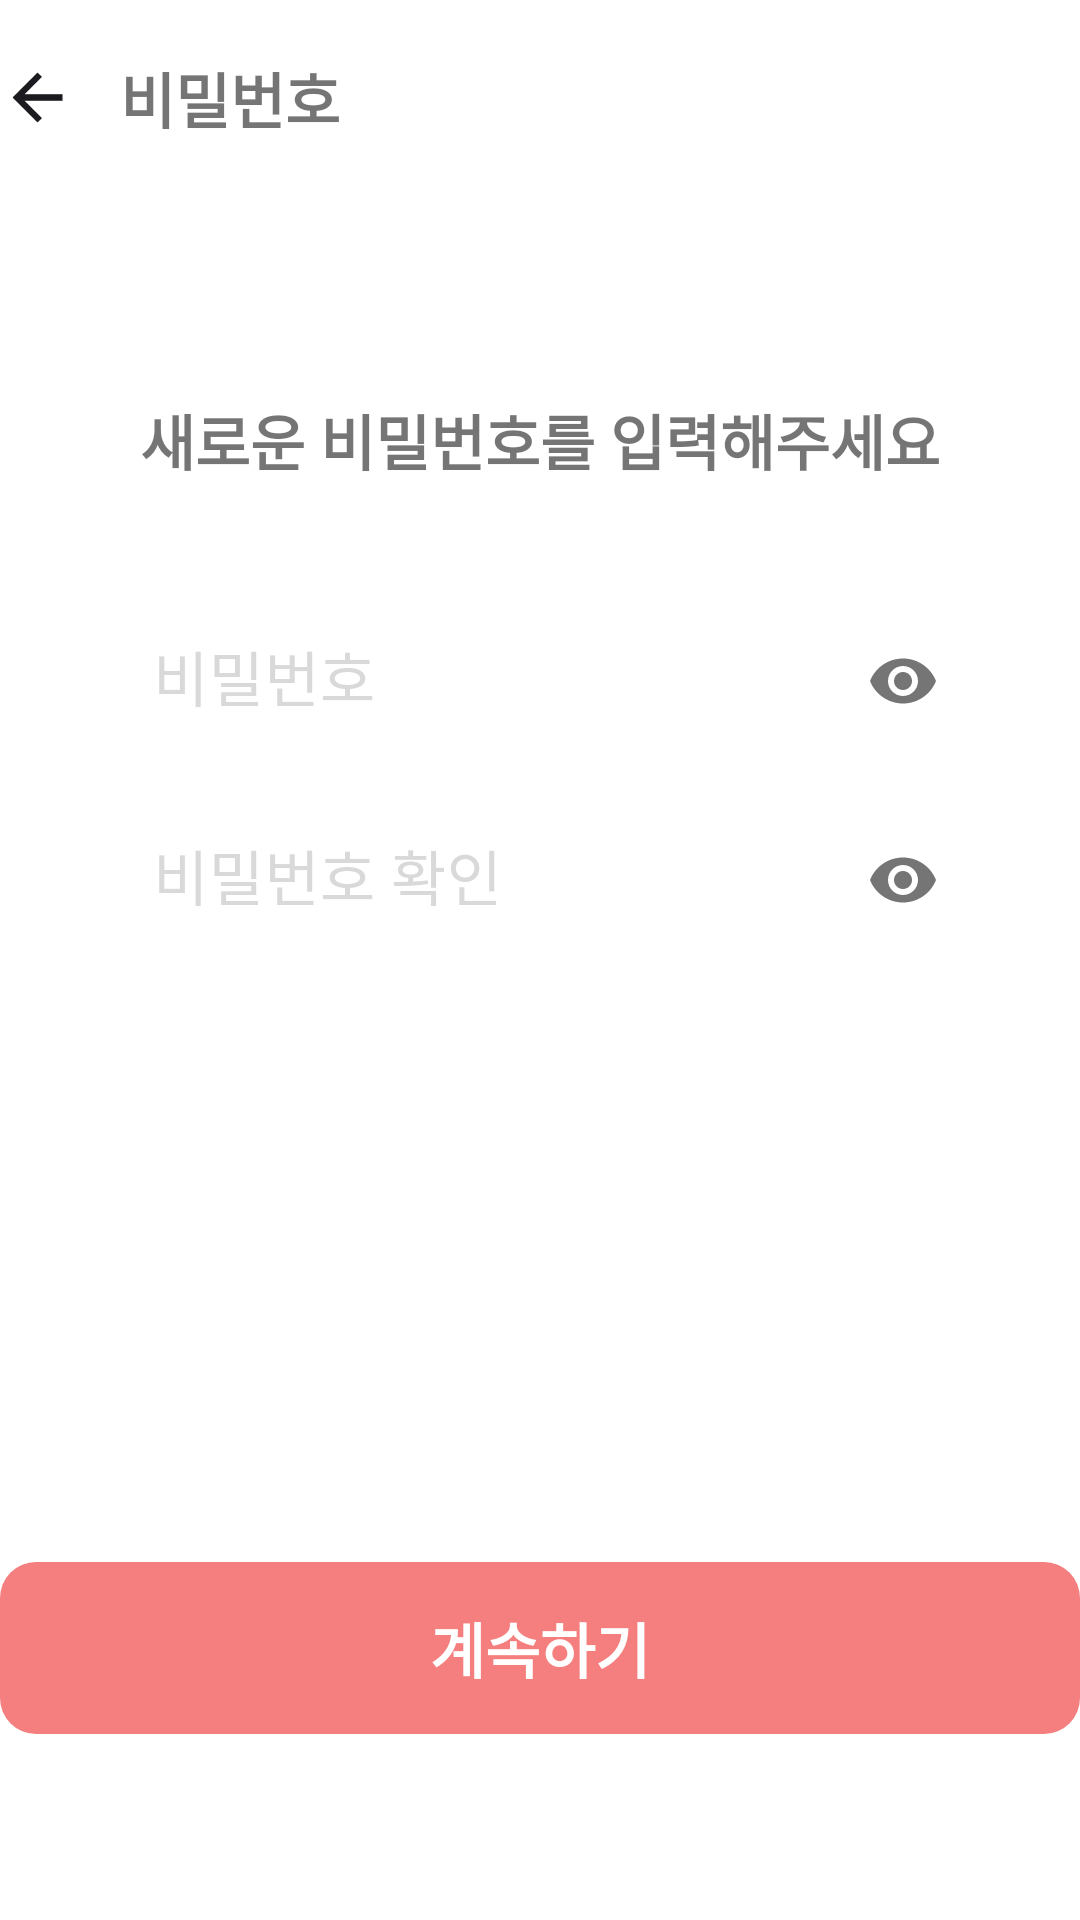

Icons on this 1080px×1920px Android screen, each with the point to tap as (x,y):
back: (37,97)
